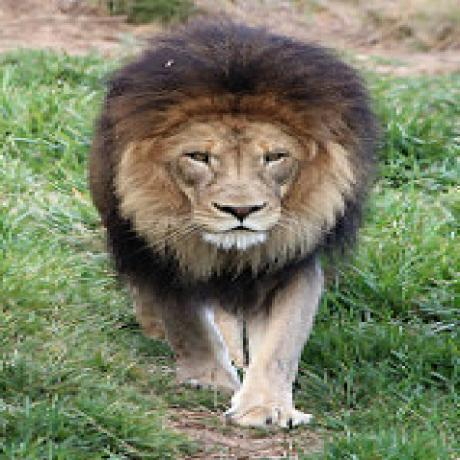Lion: (84, 18, 370, 431)
